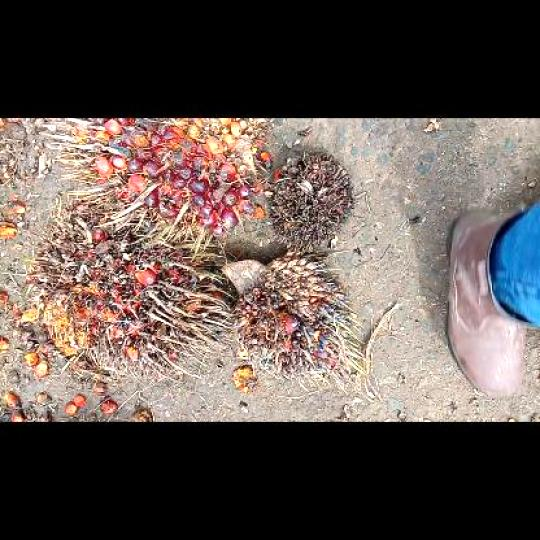masak: (38, 119, 264, 255)
terlalu masak: (23, 195, 232, 384)
